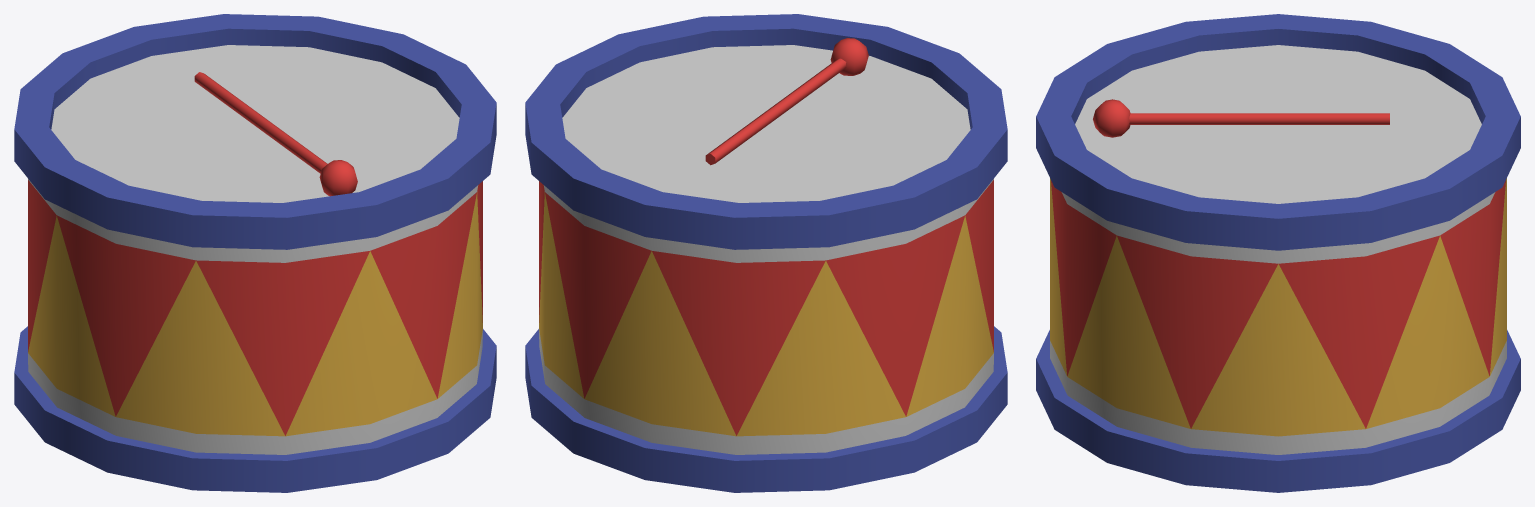
Rendered from Drum_01.fbx.
3 views of the same model, side by side, from view 1: azimuth 30°, elevation 25°; view 2: azimuth 150°, elevation 25°; view 3: azimuth 270°, elevation 25° (orthographic).
Visible parts, largest first — view 1: Drum_01; view 2: Drum_01; view 3: Drum_01.
Boxes of the visible parts, box(x1,y1,x2,y2) form: Drum_01: box(14, 14, 496, 492); Drum_01: box(525, 14, 1007, 492); Drum_01: box(1036, 14, 1520, 492).
Bounding box in the file's own units: 0.4202 × 0.2768 × 0.4202.
